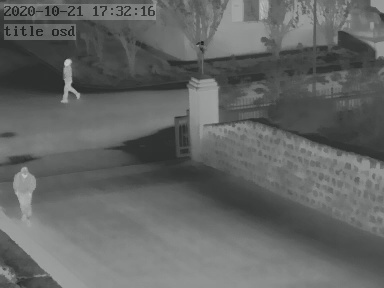person: (12, 162, 37, 220), (62, 56, 80, 104)
